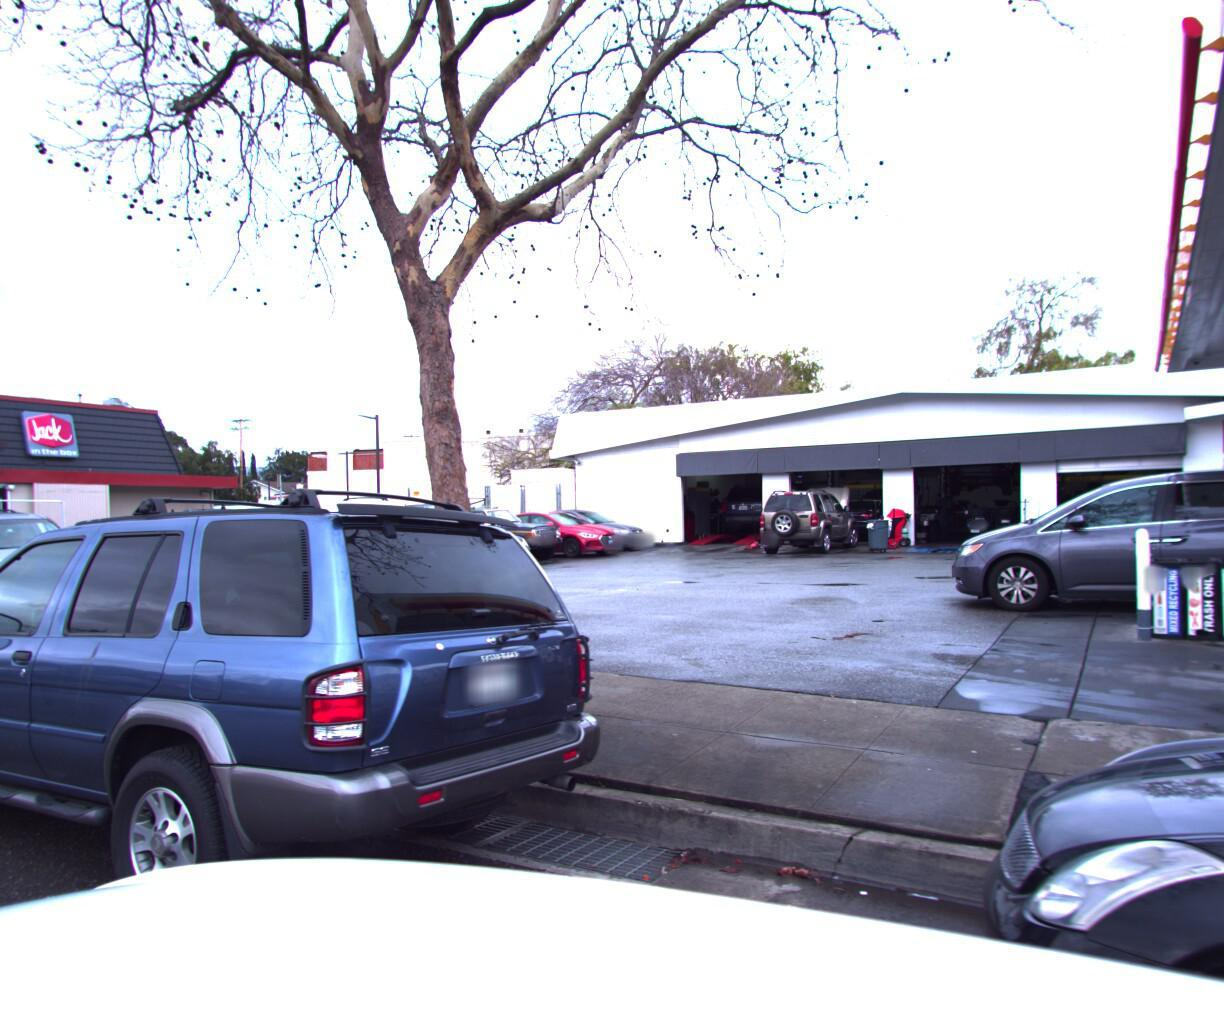car: (0, 462, 623, 1024), (933, 459, 1224, 628), (218, 516, 453, 596), (312, 493, 518, 584), (11, 523, 209, 606), (0, 498, 126, 624), (110, 519, 281, 592), (354, 516, 537, 577), (414, 507, 569, 569), (297, 508, 445, 573), (251, 516, 391, 576), (479, 513, 629, 562), (753, 491, 858, 559), (515, 513, 656, 556), (717, 488, 811, 539), (944, 448, 1023, 500), (824, 500, 909, 547)
